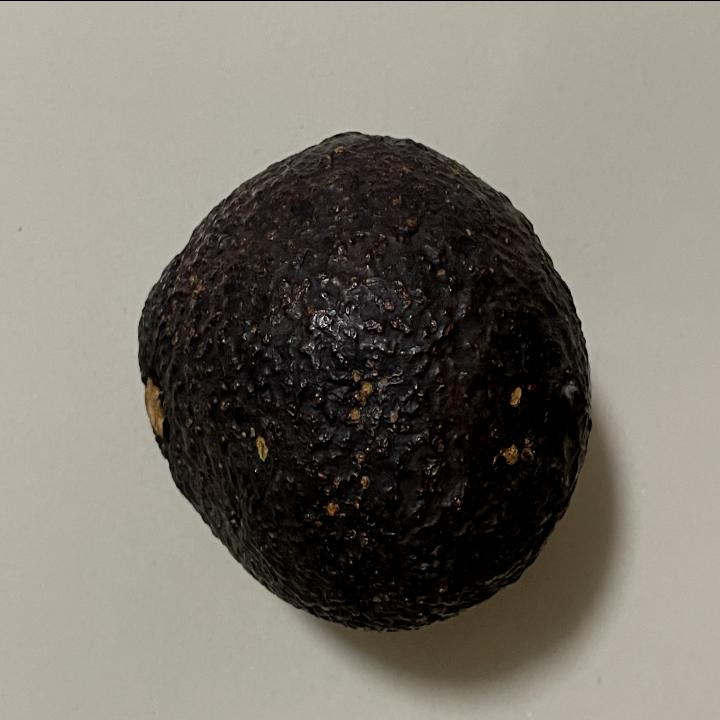Level3: (126, 114, 598, 644)
